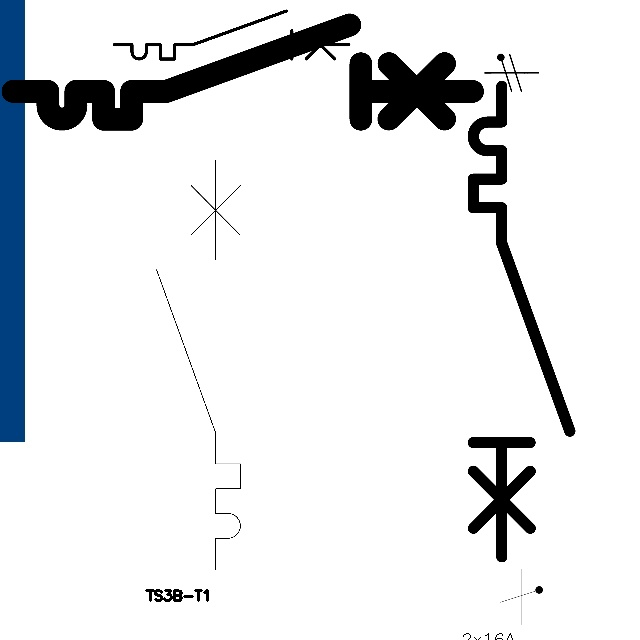interruptor_termomagnetico: (461, 74, 582, 569), (1, 13, 484, 131), (146, 150, 251, 580), (108, 5, 355, 65)
